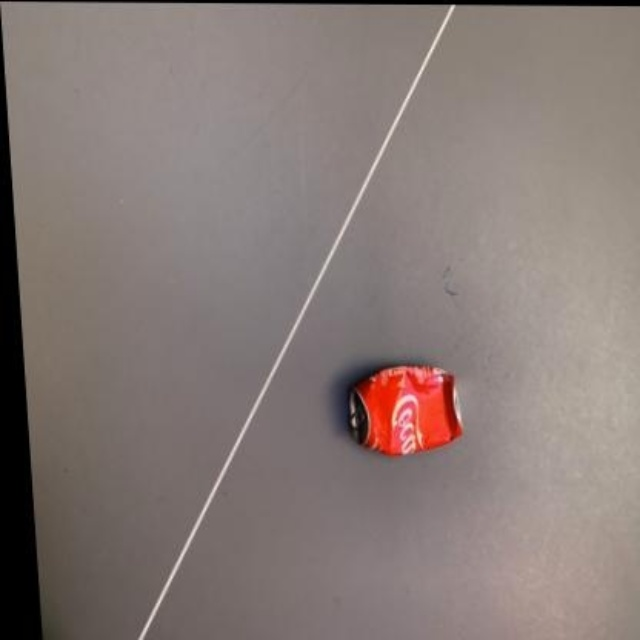trash: (348, 365, 460, 454)
